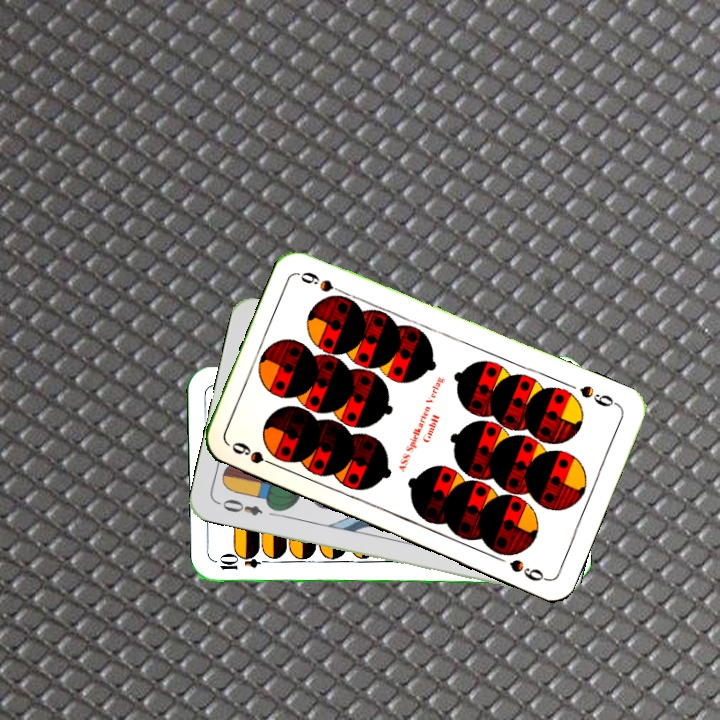E10: (216, 555, 275, 573)
EO: (213, 495, 265, 519)
S9: (227, 438, 284, 471), (575, 381, 622, 410)
